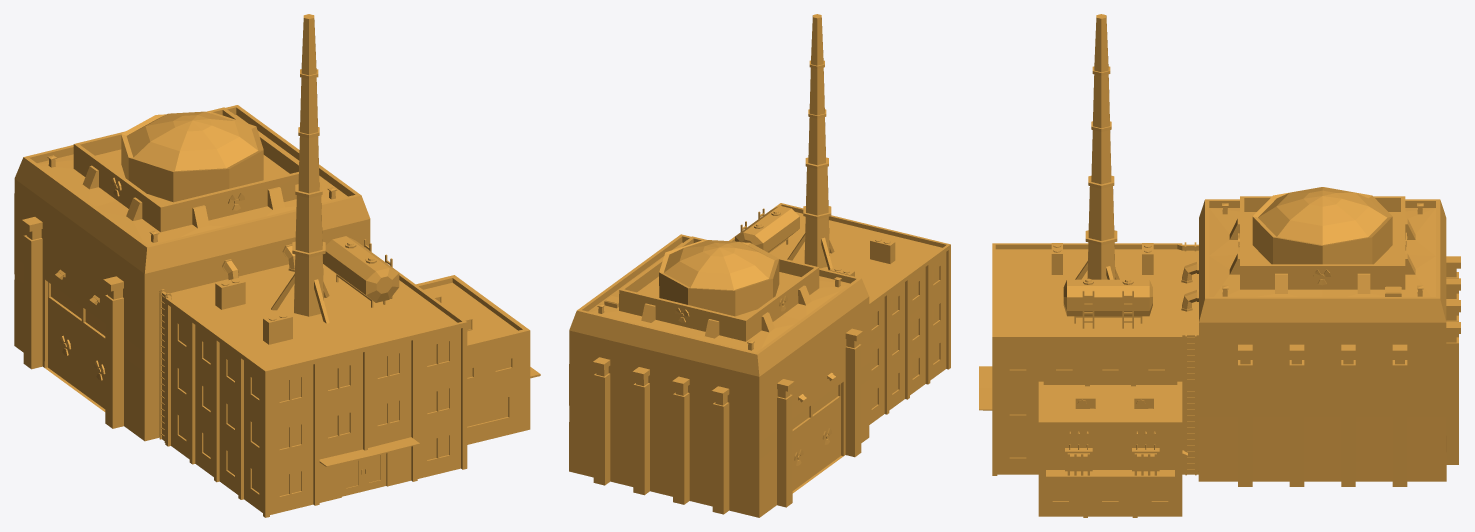
Rendered from nuclear-power-plant.fbx.
The picture shows the model from 3 angles, left to right: view 1: azimuth 30°, elevation 25°; view 2: azimuth 150°, elevation 25°; view 3: azimuth 270°, elevation 25°; orthographic projection. The views are drawn at different scales.
Parts seen in each view (by area): view 1: nuclear-power-plant; view 2: nuclear-power-plant; view 3: nuclear-power-plant.
Boxes of the visible parts, box(x1,y1,x2,y2) form: nuclear-power-plant: box(14, 14, 540, 517); nuclear-power-plant: box(569, 14, 950, 517); nuclear-power-plant: box(979, 14, 1460, 517).
Bounding box in the file's own units: 21.82 × 27.59 × 29.17.
